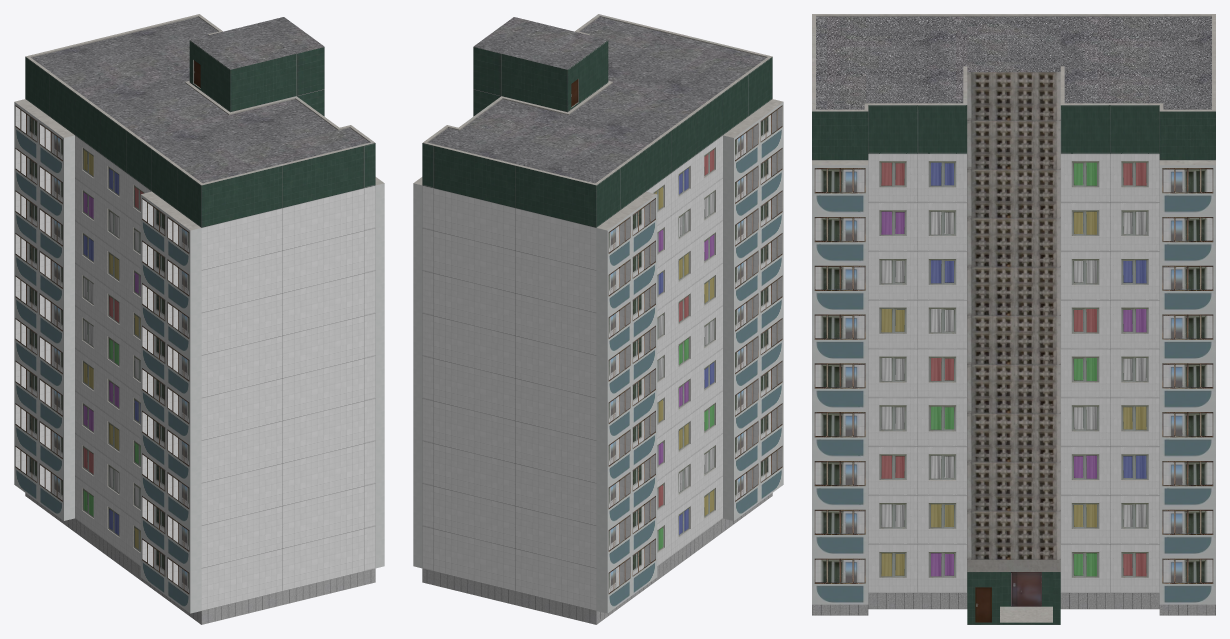
File: cherkasy_9-floors_appartments.glb
The picture shows the model from 3 angles, left to right: view 1: azimuth 30°, elevation 25°; view 2: azimuth 150°, elevation 25°; view 3: azimuth 270°, elevation 25°; orthographic projection. The views are drawn at different scales.
Visible parts, largest first — view 1: Cube_building_0, Cube_windows_0, Cube_interior_0; view 2: Cube_building_0, Cube_windows_0, Cube_interior_0; view 3: Cube_building_0, Cube_windows_0, Cube_interior_0.
Part boxes in pixels (bbox=[...]): Cube_building_0: bbox=[14, 14, 384, 624]; Cube_windows_0: bbox=[15, 105, 189, 594]; Cube_interior_0: bbox=[83, 150, 143, 550]; Cube_building_0: bbox=[413, 14, 783, 624]; Cube_windows_0: bbox=[608, 105, 782, 594]; Cube_interior_0: bbox=[655, 149, 714, 549]; Cube_building_0: bbox=[812, 14, 1215, 624]; Cube_windows_0: bbox=[814, 161, 1213, 583]; Cube_interior_0: bbox=[881, 162, 1146, 576].
Size of the model in its own units: 13.41 by 30.58 by 20.24.
3 materials, 3 textured.
